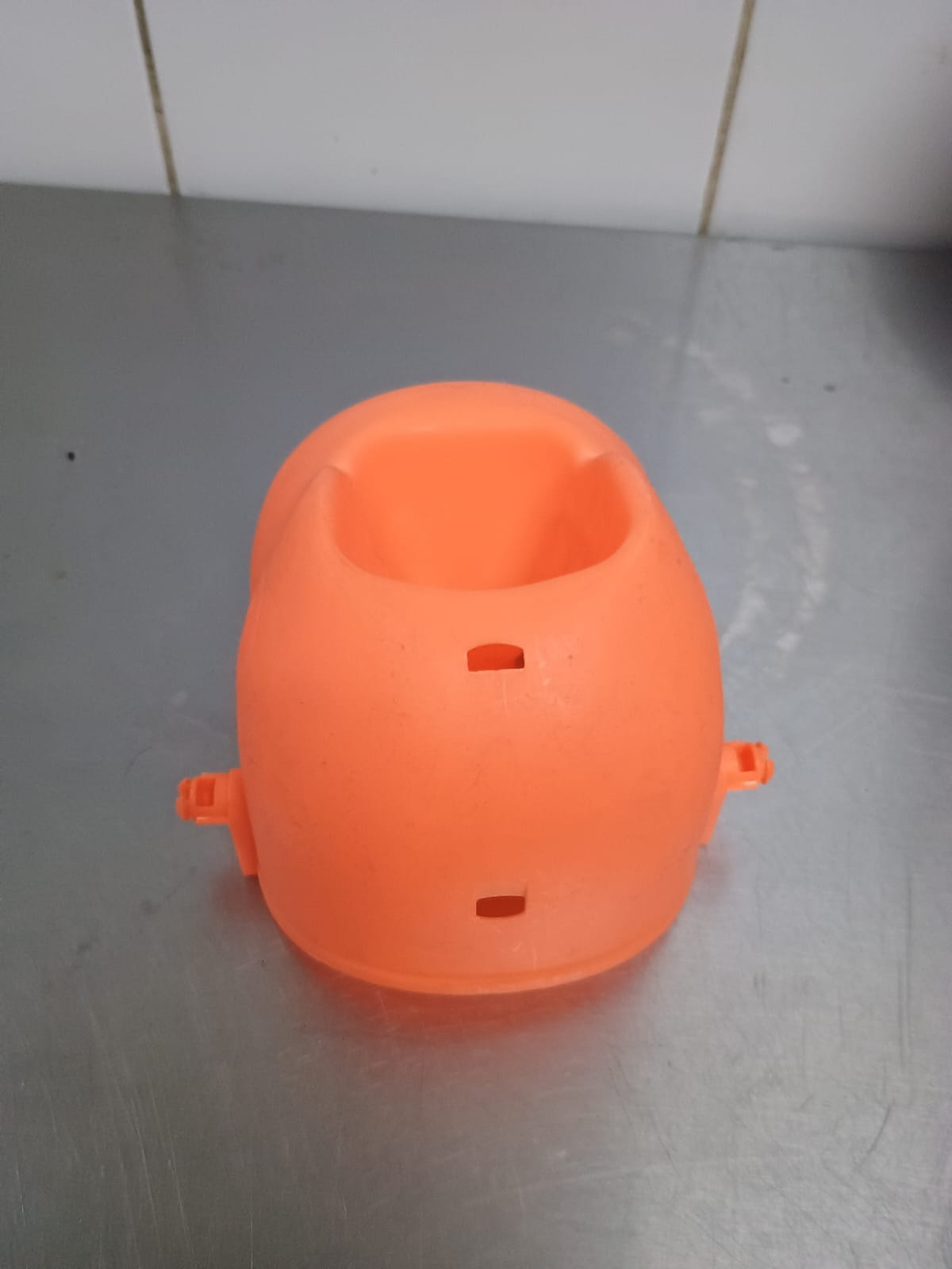Plastico: (175, 382, 772, 995)
